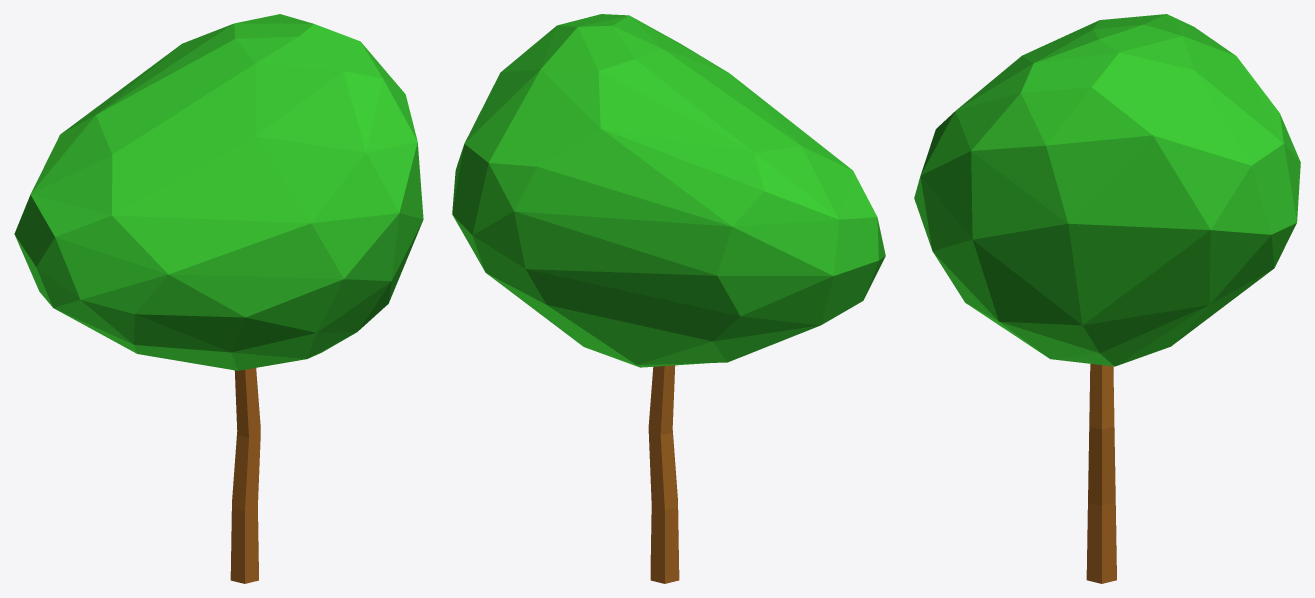
File: Tree6.fbx
3 views of the same model, side by side, from view 1: azimuth 30°, elevation 25°; view 2: azimuth 150°, elevation 25°; view 3: azimuth 270°, elevation 25° (orthographic). The views are drawn at different scales.
Parts seen in each view (by area): view 1: Green Tree 3; view 2: Green Tree 3; view 3: Green Tree 3.
Part boxes in pixels (x1,y1,x2,y2): Green Tree 3: (14, 14, 423, 583); Green Tree 3: (452, 14, 885, 583); Green Tree 3: (914, 14, 1300, 583).
Size of the model in its own units: 269 by 313 by 434.
